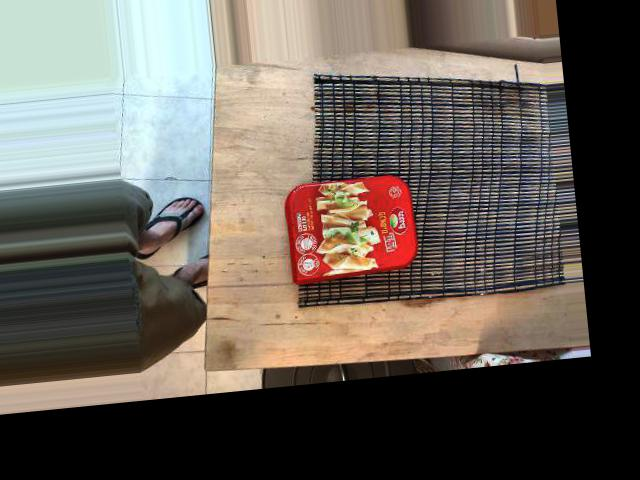cheese: (301, 41, 442, 246)
